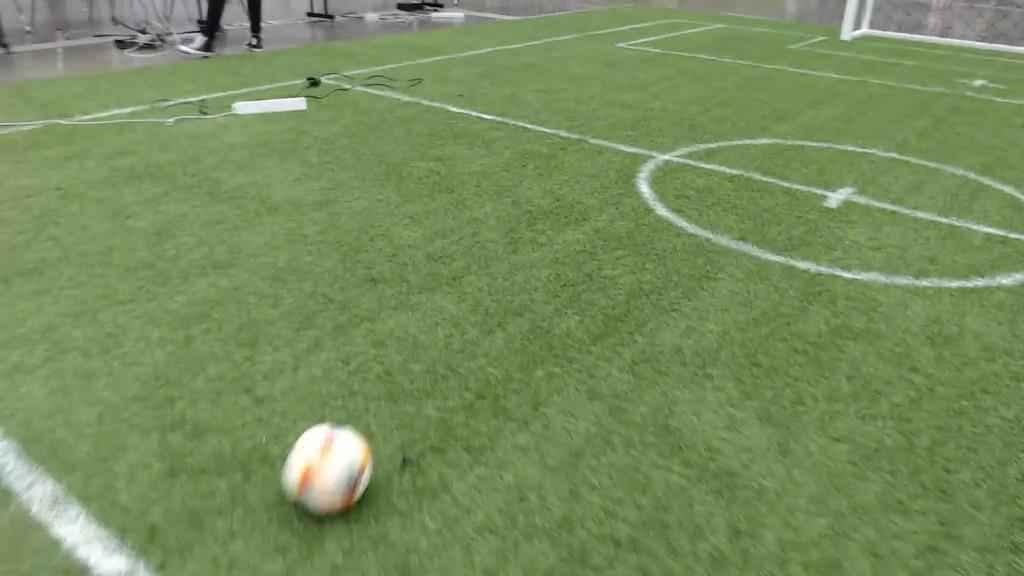ball: (284, 421, 373, 516)
